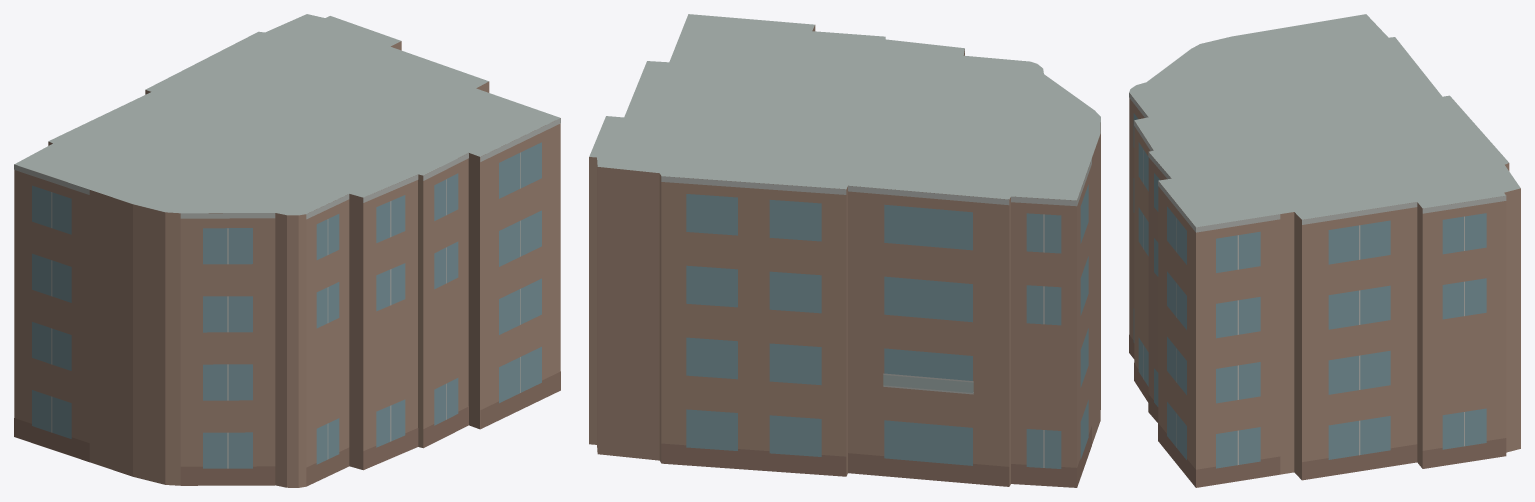
Rendered from survey-upis-32587838.glb.
3 views of the same model, side by side, from view 1: azimuth 30°, elevation 25°; view 2: azimuth 150°, elevation 25°; view 3: azimuth 270°, elevation 25° (orthographic). The views are drawn at different scales.
Visible parts, largest first — view 1: survey-upis-32587838.tmp; view 2: survey-upis-32587838.tmp; view 3: survey-upis-32587838.tmp.
Part boxes in pixels (x1=…): survey-upis-32587838.tmp: x1=14, y1=14, x2=560, y2=487; survey-upis-32587838.tmp: x1=589, y1=14, x2=1100, y2=487; survey-upis-32587838.tmp: x1=1129, y1=14, x2=1520, y2=487.
Bounding box in the file's own units: 21.44 × 12.2 × 16.63.
